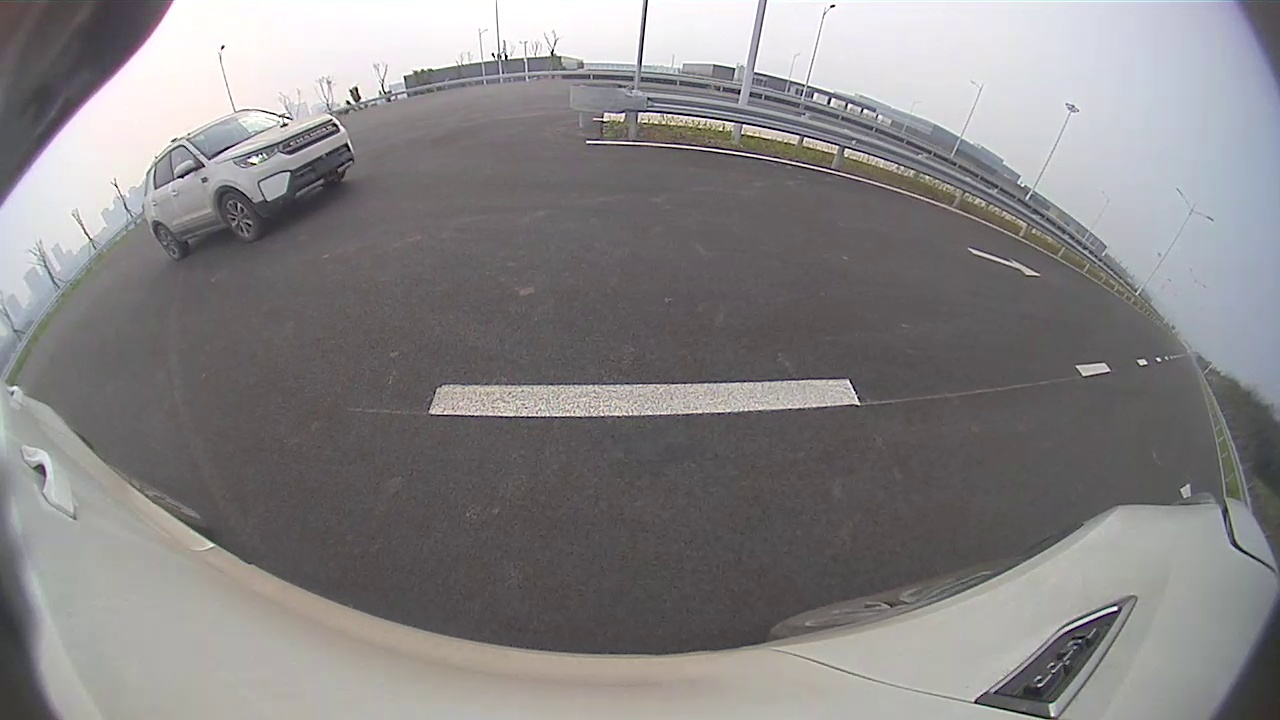car: (144, 108, 355, 261)
front: (220, 193, 259, 244)
rear: (154, 223, 187, 261)
